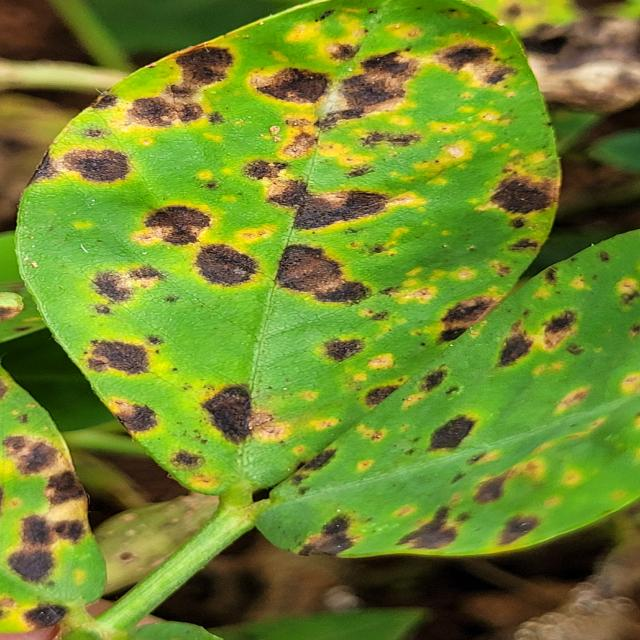Ground nut_tikka leaf spot: (11, 0, 571, 497)
